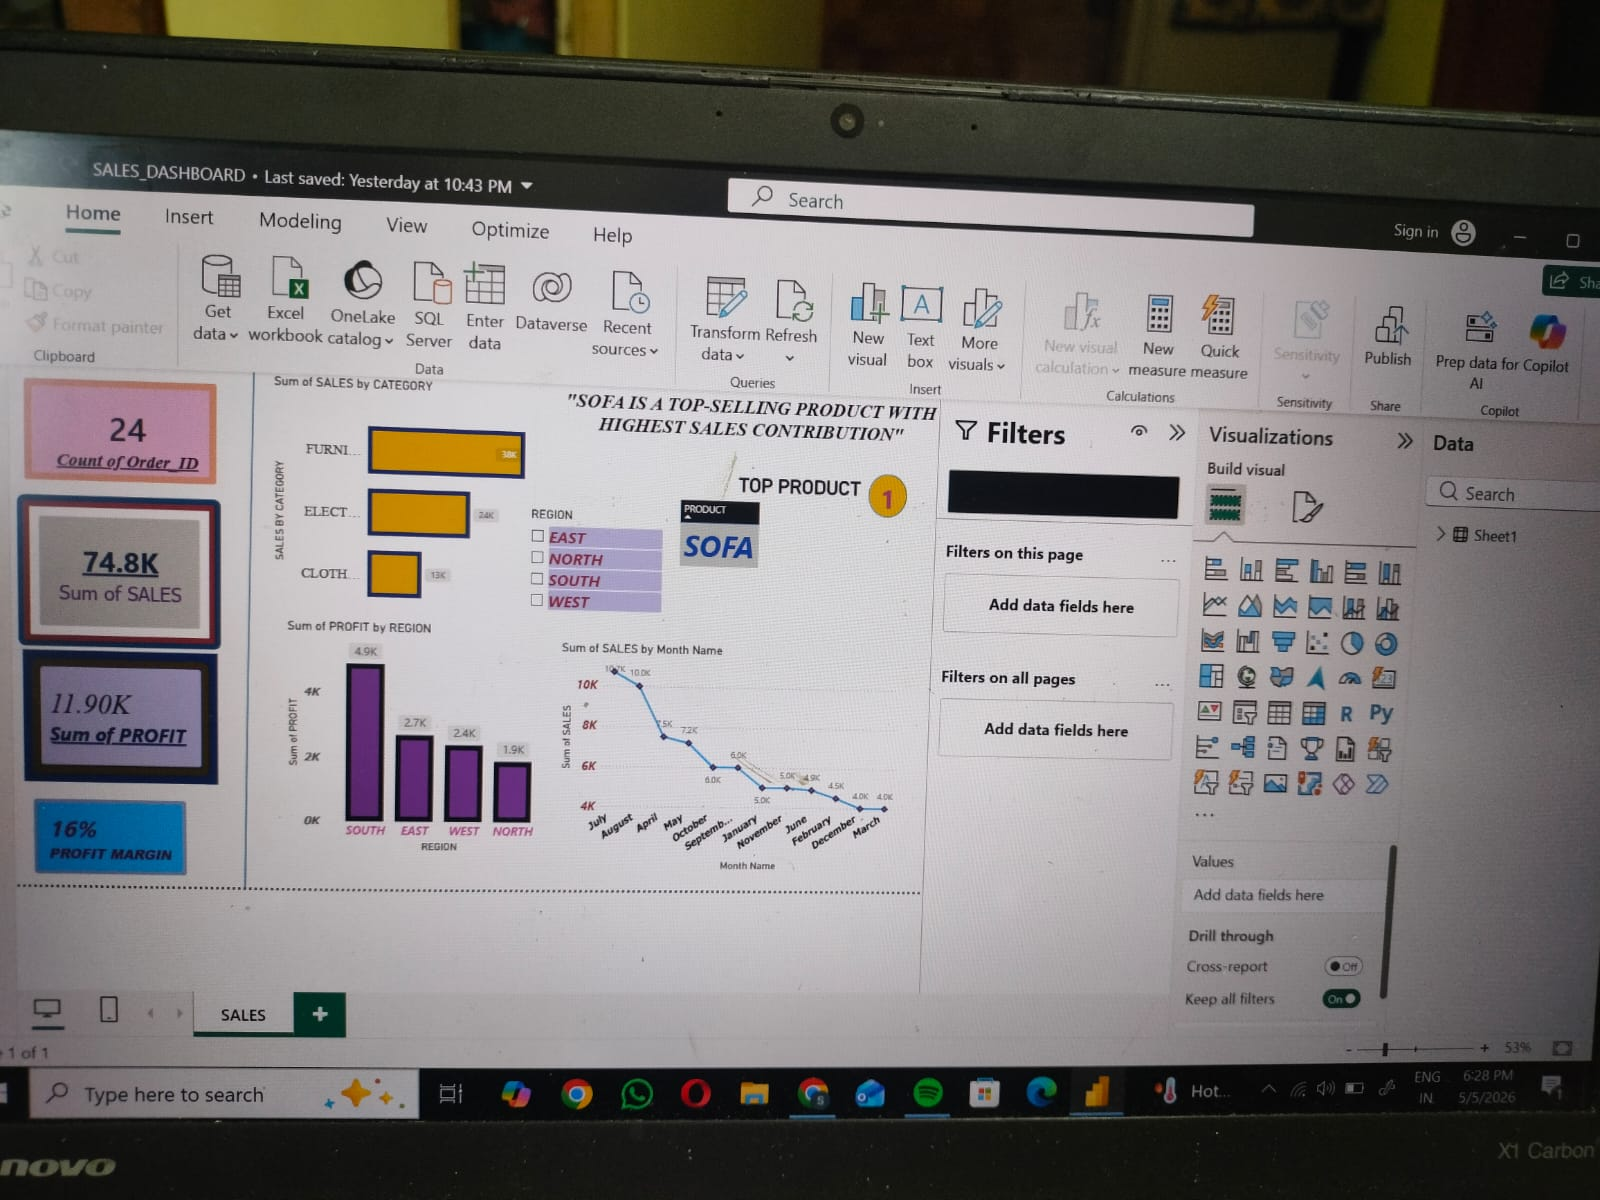

The page's visual inventory and layout, read from the dashboard file:
{"tool":"powerbi","page":{"name":"SALES ","canvas":[1280,720],"ordinal":0},"visuals":[{"type":"cardVisual","fields":{"Data":["Sum(Sheet1.SALES)"]},"box":[10,176,274,208],"z":0},{"type":"cardVisual","fields":{"Data":["Sum(Sheet1.PROFIT)"]},"box":[10,384,274,194],"z":1},{"type":"cardVisual","fields":{"Data":["CountNonNull(Sheet1.Order_ID)"]},"box":[2,0,292,172],"z":2},{"type":"cardVisual","fields":{"Data":["Sheet1.PROFIT MARGIN"]},"box":[10,580,242,140],"z":3},{"type":"shape","box":[252,0,140,720],"z":4},{"type":"clusteredBarChart","fields":{"Category":["Sheet1.CATEGORY"],"Y":["Sum(Sheet1.SALES)"]},"box":[350,0,394,384],"z":5},{"type":"clusteredColumnChart","fields":{"Category":["Sheet1.REGION"],"Y":["Sum(Sheet1.PROFIT)"]},"box":[368,336,376,334],"z":6},{"type":"lineChart","fields":{"Category":["Sheet1.Month Name"],"Y":["Sum(Sheet1.SALES)"]},"box":[744,360,494,336],"z":7},{"type":"listSlicer","fields":{"Values":["Sheet1.REGION"]},"box":[700,172,208,156],"z":8},{"type":"tableEx","title":"TOP PRODUCT","fields":{"Values":["Sheet1.PRODUCT"]},"box":[908,116,350,212],"z":9},{"type":"shape","box":[1182,110,56,62],"z":10},{"type":"textbox","box":[744,0,536,110],"z":11}]}

Visuals, with their boxes on the page's 1280x720 design canvas (x1, y1, x2, y2). These are canvas units, not pixel positions in the 1600x1200 screenshot, which may show the page scaled, cropped or inside an application window:
cardVisual - Sum(Sheet1.SALES): BBox(10, 176, 284, 384)
cardVisual - Sum(Sheet1.PROFIT): BBox(10, 384, 284, 578)
cardVisual - CountNonNull(Sheet1.Order_ID): BBox(2, 0, 294, 172)
cardVisual - Sheet1.PROFIT MARGIN: BBox(10, 580, 252, 720)
shape: BBox(252, 0, 392, 720)
clusteredBarChart - Sheet1.CATEGORY x Sum(Sheet1.SALES): BBox(350, 0, 744, 384)
clusteredColumnChart - Sheet1.REGION x Sum(Sheet1.PROFIT): BBox(368, 336, 744, 670)
lineChart - Sheet1.Month Name x Sum(Sheet1.SALES): BBox(744, 360, 1238, 696)
listSlicer - Sheet1.REGION: BBox(700, 172, 908, 328)
"TOP PRODUCT" tableEx: BBox(908, 116, 1258, 328)
shape: BBox(1182, 110, 1238, 172)
textbox: BBox(744, 0, 1280, 110)
